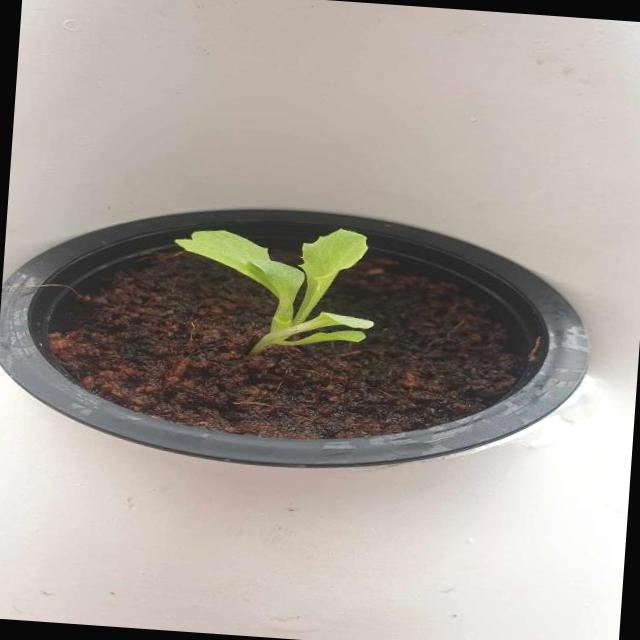Lettuce-Not-Ready-to-Harvest: (175, 229, 372, 353)
